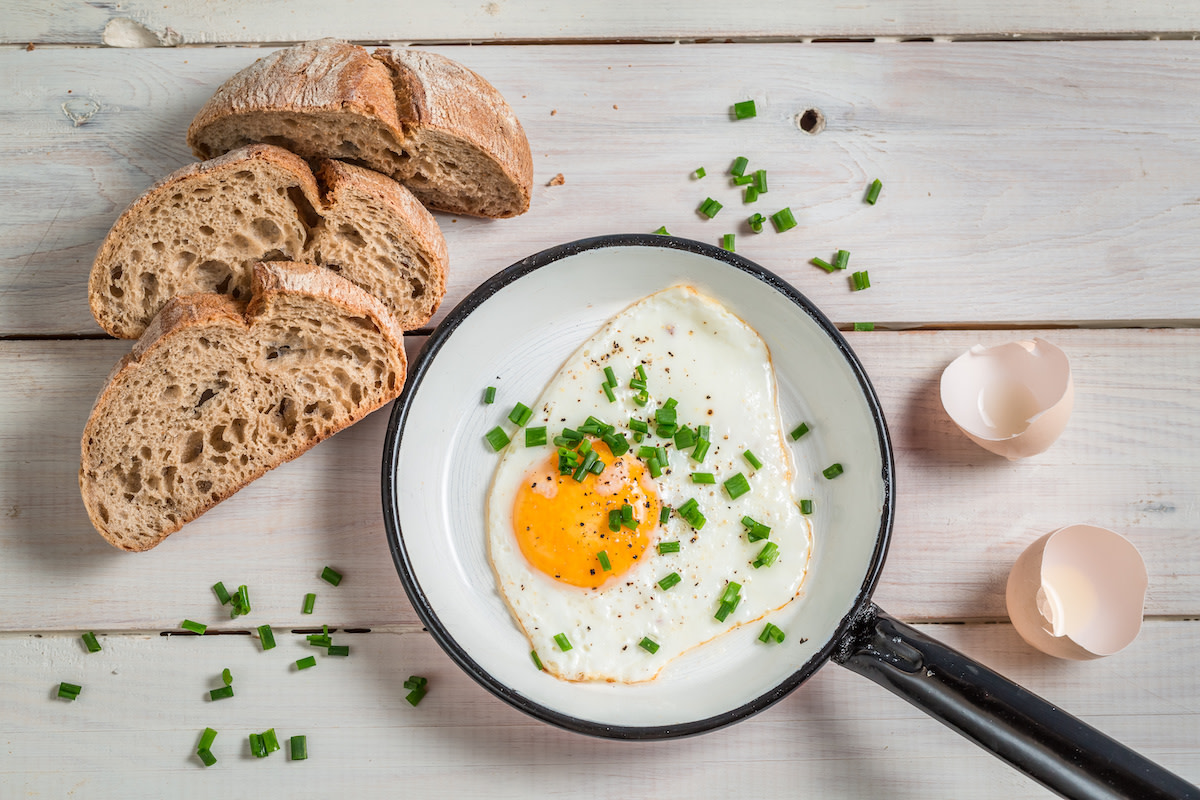Sunny Side Up: (480, 283, 818, 683)
